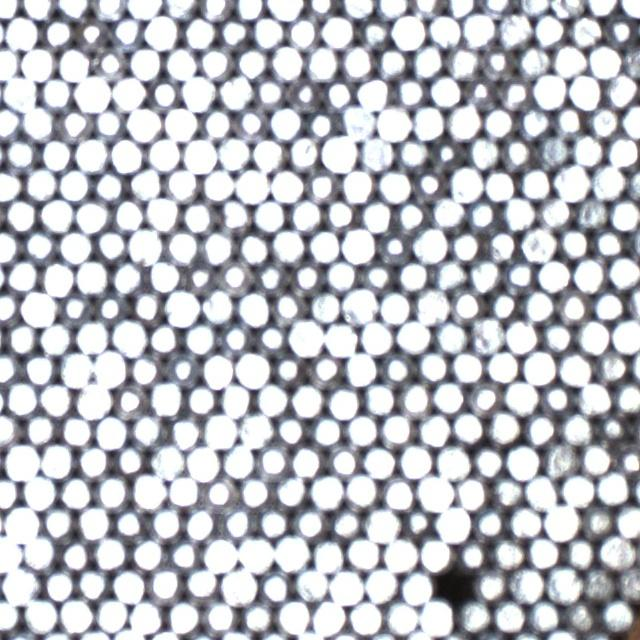tool: (435, 506, 471, 542), (130, 472, 166, 508), (486, 408, 522, 444), (74, 382, 110, 418), (598, 533, 634, 569), (358, 134, 394, 170), (2, 566, 38, 602), (128, 598, 164, 634), (292, 504, 328, 540), (220, 567, 256, 603), (146, 566, 182, 602), (525, 533, 561, 569), (321, 135, 356, 171), (361, 380, 396, 416), (3, 505, 39, 540), (521, 348, 556, 384), (310, 537, 346, 572), (165, 228, 200, 264), (163, 105, 198, 141), (238, 412, 273, 448), (537, 256, 572, 292), (2, 74, 37, 110), (546, 566, 581, 602), (238, 535, 273, 571), (202, 536, 237, 572), (346, 534, 381, 570), (395, 134, 430, 170), (92, 350, 127, 386), (74, 76, 110, 111), (109, 136, 144, 172), (58, 350, 93, 386), (273, 534, 308, 570), (144, 196, 179, 232), (20, 290, 56, 325), (4, 444, 39, 480), (397, 382, 432, 418), (417, 474, 452, 510), (20, 532, 55, 568), (453, 474, 488, 510), (398, 442, 433, 478), (435, 444, 470, 480), (433, 318, 468, 354), (58, 597, 93, 633), (311, 598, 346, 634), (164, 166, 199, 202), (359, 318, 394, 354), (21, 474, 57, 509), (553, 164, 588, 200), (180, 75, 215, 110), (417, 411, 452, 446), (411, 104, 446, 139), (382, 536, 417, 571), (286, 134, 321, 169), (594, 348, 629, 383), (294, 565, 329, 600), (145, 136, 180, 171), (217, 74, 252, 109), (93, 413, 128, 448), (364, 506, 399, 541), (130, 535, 165, 570), (126, 105, 161, 140), (560, 472, 595, 507), (93, 474, 128, 509), (164, 290, 199, 325), (127, 45, 162, 80), (358, 198, 393, 233), (39, 197, 74, 232), (393, 198, 428, 233), (112, 383, 147, 418), (364, 566, 399, 601), (543, 441, 578, 476), (380, 475, 415, 510), (130, 411, 165, 446), (308, 412, 343, 447), (562, 535, 597, 570), (446, 104, 481, 139), (509, 566, 544, 601), (531, 72, 566, 107), (200, 229, 235, 264), (202, 598, 237, 633), (347, 599, 382, 634), (375, 105, 410, 140), (22, 411, 57, 446), (505, 443, 540, 478), (146, 258, 181, 293), (500, 195, 535, 230), (323, 321, 358, 356), (579, 502, 614, 537), (378, 349, 413, 384), (429, 135, 464, 170), (5, 380, 39, 416), (432, 378, 466, 414), (58, 228, 92, 264), (128, 228, 162, 264), (40, 74, 74, 110), (180, 198, 216, 232), (166, 598, 200, 634), (40, 442, 74, 478), (182, 136, 216, 172), (93, 534, 127, 570), (414, 288, 448, 324), (41, 504, 75, 540), (582, 564, 616, 600), (289, 319, 323, 355), (20, 104, 54, 140), (74, 136, 108, 172), (340, 166, 374, 202), (550, 43, 586, 77), (112, 318, 146, 354), (22, 597, 56, 633), (217, 135, 251, 170), (508, 504, 542, 539), (342, 288, 377, 322), (418, 536, 452, 571), (306, 228, 341, 262), (341, 227, 375, 262), (572, 256, 606, 291), (570, 132, 605, 166), (4, 196, 38, 231), (543, 504, 578, 538), (340, 104, 374, 139), (5, 258, 40, 292), (39, 381, 73, 416), (524, 474, 558, 509), (384, 599, 418, 634), (444, 45, 479, 79), (304, 45, 338, 80), (413, 227, 447, 262), (184, 382, 218, 417), (355, 76, 390, 110), (218, 382, 252, 417), (591, 287, 626, 321), (110, 260, 144, 295), (219, 503, 253, 538), (236, 351, 270, 386), (396, 257, 430, 292), (56, 46, 90, 81), (76, 505, 111, 539), (450, 410, 484, 445), (255, 504, 290, 538), (587, 43, 621, 78), (504, 379, 538, 414), (113, 505, 147, 540), (92, 45, 126, 80), (183, 505, 217, 540), (540, 381, 574, 416), (486, 348, 521, 382), (307, 352, 342, 386), (203, 475, 238, 509), (467, 380, 502, 414), (217, 197, 251, 232), (288, 197, 322, 232), (343, 350, 377, 385), (410, 43, 444, 78), (168, 413, 202, 448), (533, 11, 567, 46), (165, 350, 200, 384), (129, 350, 163, 385), (217, 321, 252, 355), (57, 537, 92, 571), (309, 473, 343, 508), (92, 105, 126, 140), (534, 133, 569, 167), (234, 168, 268, 203), (344, 472, 378, 507), (75, 259, 109, 294), (490, 535, 524, 570), (4, 135, 38, 170), (320, 13, 354, 48), (497, 12, 531, 47), (472, 506, 506, 541), (379, 412, 414, 446), (202, 412, 236, 447), (523, 411, 557, 446), (184, 320, 218, 355), (469, 317, 503, 352), (272, 472, 306, 507), (41, 566, 76, 600), (184, 565, 219, 599), (236, 290, 270, 325), (492, 597, 526, 632), (537, 195, 572, 229), (462, 11, 496, 46), (148, 505, 182, 540), (271, 352, 306, 386), (200, 289, 235, 323), (329, 568, 363, 603), (359, 258, 394, 292), (579, 440, 613, 475), (218, 259, 253, 293), (256, 443, 290, 478), (4, 15, 38, 50), (258, 568, 293, 602), (128, 166, 162, 201), (362, 443, 396, 478), (489, 474, 524, 508), (325, 384, 359, 419), (251, 136, 285, 171), (185, 444, 220, 478), (450, 349, 485, 383), (148, 381, 183, 415), (399, 569, 434, 603), (576, 379, 610, 414), (328, 506, 363, 540), (22, 228, 56, 263), (276, 598, 310, 633), (254, 258, 288, 293), (149, 443, 184, 477), (563, 598, 598, 632), (182, 260, 217, 294), (471, 444, 505, 479), (479, 46, 513, 81), (558, 350, 592, 384), (290, 382, 324, 416), (418, 600, 452, 634), (254, 382, 288, 416), (570, 12, 604, 46), (344, 412, 378, 446), (40, 260, 74, 294), (557, 225, 591, 259), (520, 287, 554, 321), (520, 226, 554, 260), (586, 104, 620, 138), (111, 76, 145, 110), (112, 568, 146, 602), (166, 473, 200, 507), (393, 74, 427, 108), (432, 258, 466, 292), (448, 288, 482, 322), (234, 106, 268, 140), (560, 411, 594, 445), (57, 107, 91, 141), (59, 413, 93, 447), (270, 228, 304, 262), (269, 44, 303, 78), (308, 287, 342, 321), (75, 198, 109, 232), (164, 46, 198, 80), (391, 14, 425, 48), (568, 74, 602, 108), (592, 225, 626, 259), (92, 168, 126, 202), (269, 168, 303, 202), (416, 348, 450, 382), (168, 536, 202, 570), (574, 195, 608, 229), (555, 288, 589, 322), (324, 257, 358, 291), (456, 599, 490, 633), (144, 14, 178, 48), (58, 475, 92, 509), (273, 412, 307, 446), (58, 290, 92, 324), (130, 287, 164, 321), (304, 169, 338, 203), (596, 470, 630, 504), (200, 352, 234, 386), (606, 133, 640, 167), (240, 599, 274, 633), (374, 45, 408, 79), (396, 318, 430, 352), (221, 443, 255, 477), (516, 43, 550, 77), (590, 164, 624, 198), (326, 442, 360, 476), (94, 596, 128, 630), (448, 166, 482, 200), (20, 46, 54, 80), (40, 15, 74, 49), (526, 598, 560, 632), (75, 566, 109, 600), (378, 289, 412, 323), (575, 318, 609, 352), (377, 168, 411, 202), (485, 286, 519, 320), (198, 45, 232, 79), (270, 290, 304, 324), (254, 321, 288, 355), (76, 443, 110, 477), (427, 12, 461, 46), (75, 17, 109, 51), (597, 409, 631, 443), (109, 16, 143, 50), (504, 318, 538, 352), (22, 166, 56, 200), (75, 319, 109, 353), (454, 536, 488, 570), (540, 318, 574, 352), (376, 232, 410, 266), (604, 13, 638, 47), (400, 504, 434, 538), (600, 597, 634, 631), (502, 258, 536, 292), (269, 104, 302, 139), (448, 228, 481, 263), (111, 197, 144, 232), (94, 227, 127, 262), (200, 106, 233, 141), (551, 104, 584, 139), (40, 136, 73, 170), (237, 230, 270, 264), (467, 134, 500, 168), (483, 228, 517, 261), (468, 257, 501, 291), (517, 106, 550, 140), (39, 320, 72, 354), (498, 76, 531, 110), (340, 45, 373, 79), (499, 136, 532, 170), (430, 195, 464, 228), (290, 259, 323, 293), (322, 197, 356, 230), (428, 74, 461, 108), (290, 444, 323, 478), (473, 567, 507, 600), (22, 352, 56, 385), (253, 198, 286, 232), (518, 166, 552, 199), (216, 16, 250, 49), (112, 442, 146, 475), (147, 76, 180, 110), (200, 167, 234, 200), (605, 72, 638, 106), (147, 320, 180, 354), (483, 167, 516, 201), (182, 16, 215, 50), (250, 15, 284, 48), (57, 167, 91, 200), (286, 15, 320, 48), (357, 16, 391, 49), (304, 107, 338, 140), (411, 169, 445, 202), (482, 106, 515, 139), (238, 474, 271, 507), (287, 78, 320, 111), (466, 197, 499, 230), (465, 75, 498, 108), (608, 254, 640, 288), (94, 290, 128, 322), (608, 197, 640, 230), (236, 45, 268, 78), (5, 322, 38, 354), (252, 75, 284, 108), (610, 317, 640, 352), (322, 78, 354, 110), (612, 380, 640, 414), (615, 502, 640, 538), (614, 442, 640, 476), (618, 565, 640, 600), (0, 105, 21, 140), (0, 535, 20, 571), (0, 350, 21, 384), (0, 168, 21, 202), (0, 228, 20, 263), (0, 45, 20, 80), (0, 474, 20, 509), (0, 288, 20, 322), (92, 0, 126, 20), (199, 0, 233, 20), (0, 596, 20, 630), (373, 0, 408, 19), (0, 412, 19, 446), (21, 0, 55, 19), (232, 0, 266, 19), (622, 103, 640, 138), (56, 0, 91, 18), (126, 0, 161, 18), (268, 0, 302, 18), (163, 0, 197, 18), (340, 0, 374, 18), (622, 44, 640, 78), (304, 0, 338, 18), (550, 0, 584, 17), (408, 0, 442, 17), (586, 0, 620, 16), (515, 0, 549, 16), (444, 0, 478, 16), (478, 0, 512, 16), (624, 165, 640, 198)
